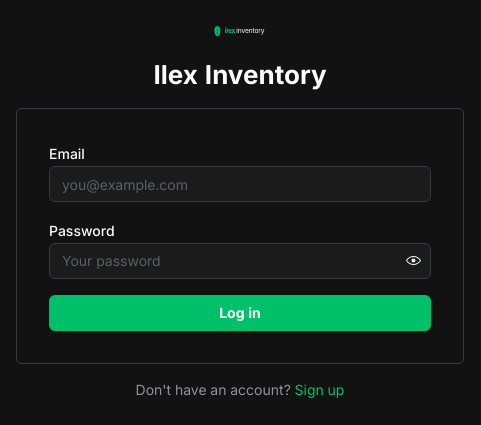
LoginPage › client-side validation: empty email shows "Email is required"
# Submit without filling in email
In the password field labelled "Password": [240, 261] box [50,244,430,278], type "somepassword"
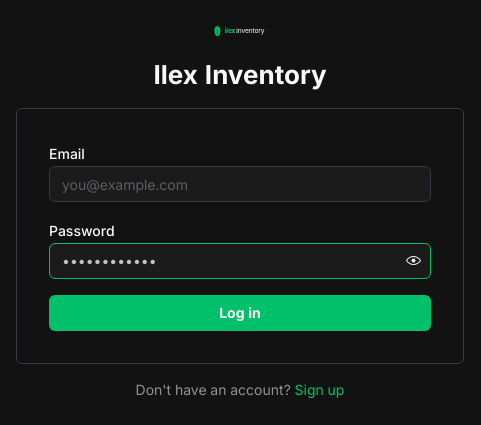
Click the button "Log in": [240, 313] box [49,295,431,331]
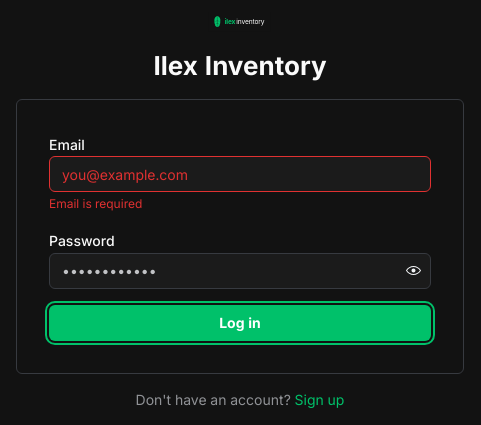
Result: the text "Email is required" is shown at [49,196,142,211]
